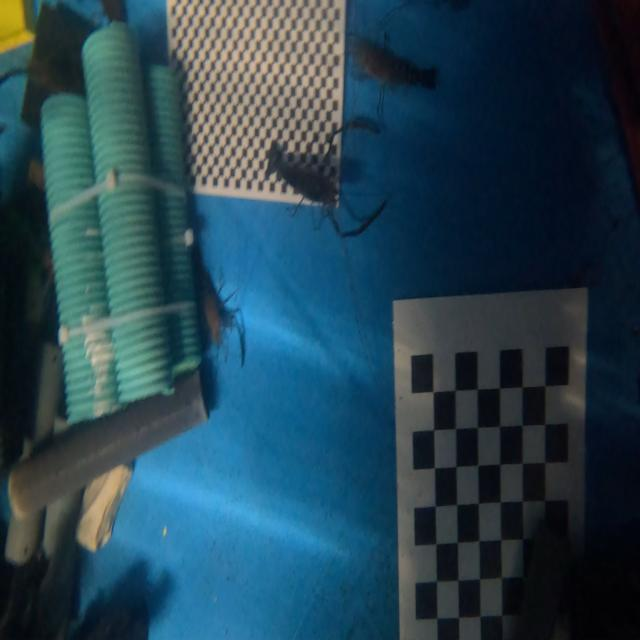prawn: (348, 35, 436, 88), (268, 144, 336, 205), (203, 276, 221, 346)
